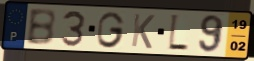3: (58, 8, 87, 48)
9: (198, 13, 226, 55)
B: (25, 8, 58, 48)
G: (96, 10, 127, 49)
K: (129, 12, 157, 50)
L: (166, 13, 190, 54)
